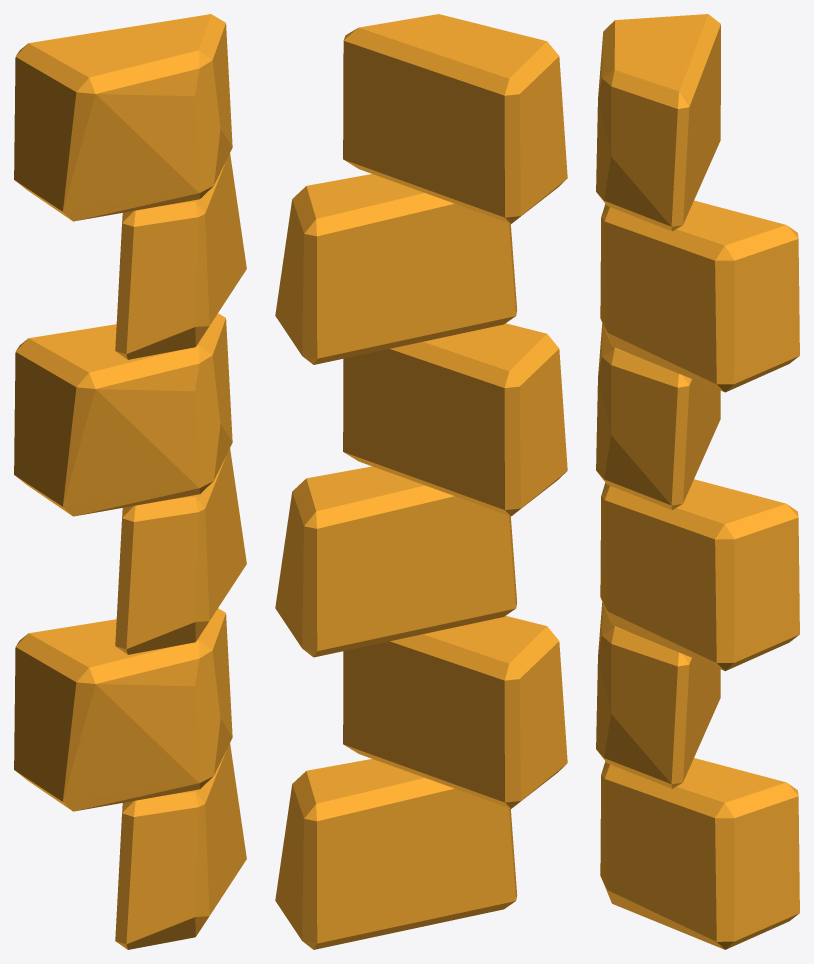
Rendered from SM_Wall_Thick_Corner_Diagonal_Out_Stone_3m_Ext_Fantasy.fbx.
The picture shows the model from 3 angles, left to right: view 1: azimuth 30°, elevation 25°; view 2: azimuth 150°, elevation 25°; view 3: azimuth 270°, elevation 25°; orthographic projection. The views are drawn at different scales.
Parts seen in each view (by area): view 1: SM_Wall_Thick_Corner_Diagonal_Out_Stone_3m_Ext_Fantasy; view 2: SM_Wall_Thick_Corner_Diagonal_Out_Stone_3m_Ext_Fantasy; view 3: SM_Wall_Thick_Corner_Diagonal_Out_Stone_3m_Ext_Fantasy.
Part boxes in pixels (bbox=[...]): SM_Wall_Thick_Corner_Diagonal_Out_Stone_3m_Ext_Fantasy: bbox=[14, 14, 246, 949]; SM_Wall_Thick_Corner_Diagonal_Out_Stone_3m_Ext_Fantasy: bbox=[275, 14, 567, 949]; SM_Wall_Thick_Corner_Diagonal_Out_Stone_3m_Ext_Fantasy: bbox=[596, 14, 799, 949].
Size of the model in its own units: 0.8424 by 3.02 by 0.6673.
